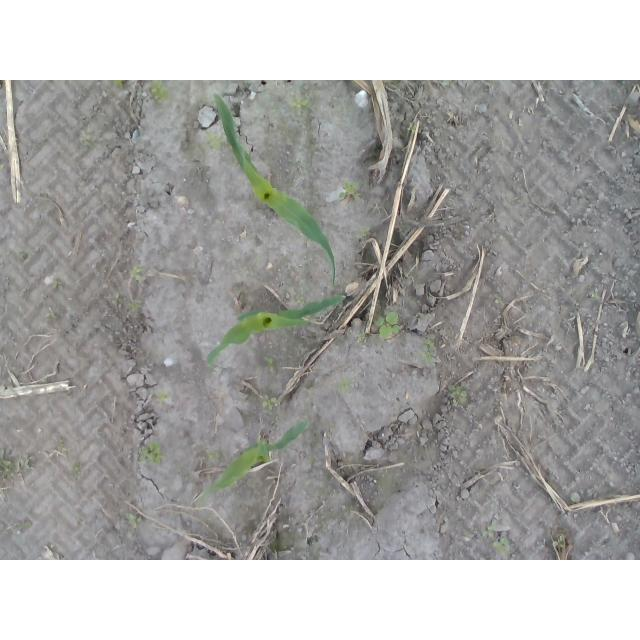Maize: (211, 93, 338, 288), (205, 296, 347, 373), (195, 419, 314, 510)
Weeds: (0, 450, 36, 487), (374, 313, 402, 339), (110, 292, 142, 312), (138, 443, 164, 465), (339, 182, 364, 203), (419, 339, 437, 365), (448, 385, 468, 408), (150, 81, 169, 105), (493, 536, 512, 556), (335, 375, 354, 395), (207, 128, 225, 149), (125, 511, 141, 529), (261, 394, 278, 410), (477, 524, 496, 538), (79, 132, 93, 148), (128, 267, 142, 281), (356, 226, 372, 238), (553, 535, 566, 549), (156, 390, 169, 404), (264, 357, 274, 374), (569, 492, 583, 504), (408, 122, 420, 134), (44, 308, 57, 319), (71, 465, 82, 478), (207, 451, 221, 461), (290, 100, 310, 107), (113, 80, 124, 90), (360, 332, 369, 341), (50, 278, 59, 287), (441, 80, 451, 88), (296, 296, 305, 304), (17, 252, 25, 260)
